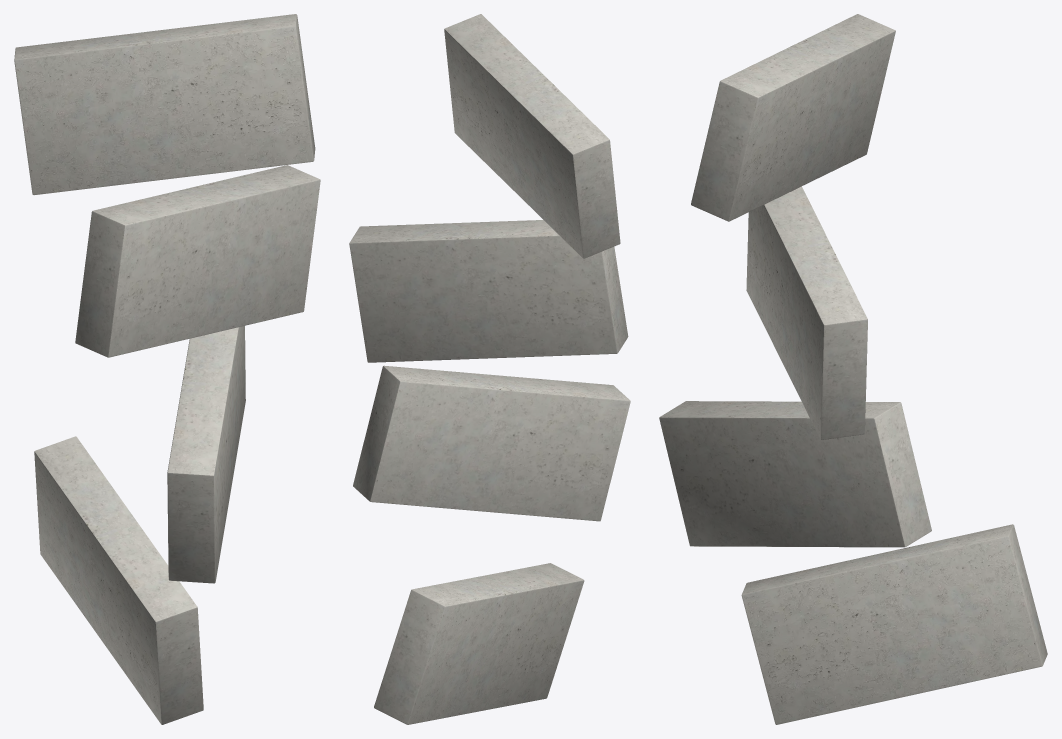
File: ALV-CEL-001_anim.glb
3 renders of one model, left to right at view 1: azimuth 30°, elevation 25°; view 2: azimuth 150°, elevation 25°; view 3: azimuth 270°, elevation 25°, orthographic. The views are drawn at different scales.
Visible parts, largest first — view 1: ALV-CEL-001_anim3, ALV-CEL-001_anim2, ALV-CEL-001_anim0, ALV-CEL-001_anim1; view 2: ALV-CEL-001_anim1, ALV-CEL-001_anim2, ALV-CEL-001_anim0, ALV-CEL-001_anim3; view 3: ALV-CEL-001_anim0, ALV-CEL-001_anim1, ALV-CEL-001_anim3, ALV-CEL-001_anim2.
Part boxes in pixels (x1,y1,x2,y2): ALV-CEL-001_anim3: (14,14,315,195); ALV-CEL-001_anim2: (75,165,320,357); ALV-CEL-001_anim0: (34,436,203,724); ALV-CEL-001_anim1: (167,326,245,583); ALV-CEL-001_anim1: (353,365,630,521); ALV-CEL-001_anim2: (349,220,628,362); ALV-CEL-001_anim0: (374,563,584,724); ALV-CEL-001_anim3: (444,14,620,258); ALV-CEL-001_anim0: (741,524,1047,724); ALV-CEL-001_anim1: (659,401,931,547); ALV-CEL-001_anim3: (691,14,895,221); ALV-CEL-001_anim2: (746,186,867,439).
Size of the model in its own units: 0.7041 by 1.62 by 0.8383.
Materials: 1 (1 with a texture image).
